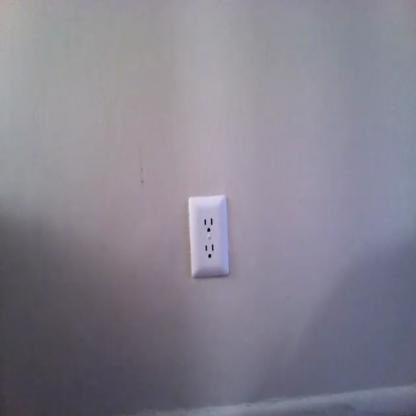OUTLET: (188, 194, 230, 280)
